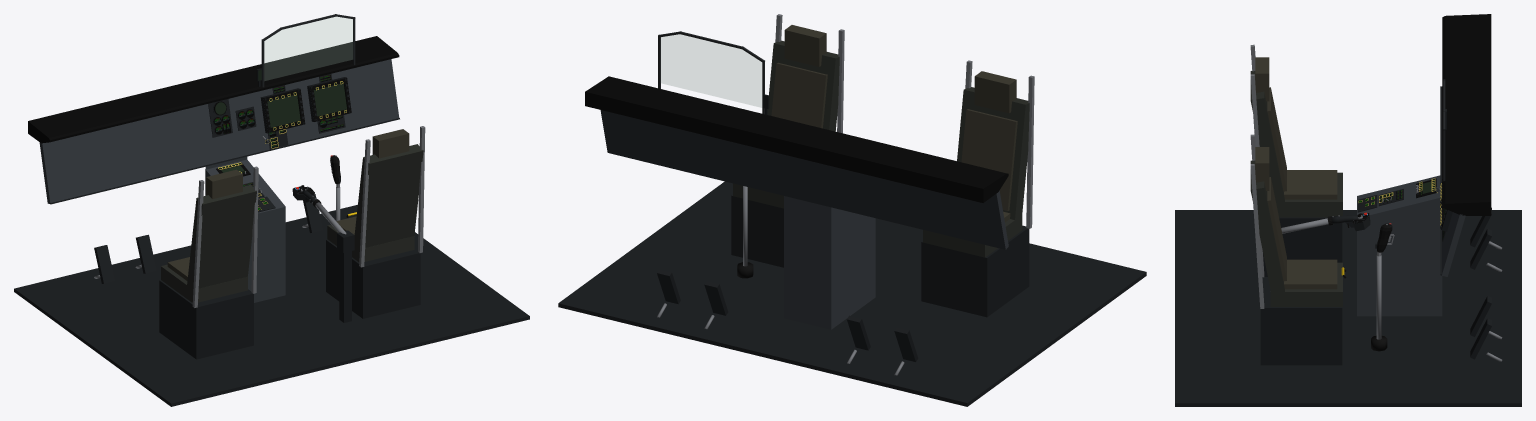
Rendered from cockpit_uh60.glb.
3 renders of one model, left to right at view 1: azimuth 30°, elevation 25°; view 2: azimuth 150°, elevation 25°; view 3: azimuth 270°, elevation 25°, orthographic. The views are drawn at different scales.
Visible parts, largest first — view 1: dark.103, panel_grey, black, dark.109, seat_95.001, seat_95, dark.108, hud_glass_69, panel_grey.001, seat_93.001, seat_93, dark.111 (+11 smaller); view 2: dark.103, panel_grey, black, panel_grey.001, dark.109, hud_glass_69, panel_grey.002, cushion_96.001, dark.108, cushion_96, seat_95.001, seat_95 (+8 smaller); view 3: dark.103, black, panel_grey.001, dark.108, dark.109, seat_95, cushion_94, cushion_94.001, seat_93, seat_93.001, seat_95.001, panel_grey (+11 smaller).
Boxes of the visible parts, x1,y1,x2,y2 form: dark.103: [14, 204, 529, 406]; panel_grey: [39, 59, 399, 203]; black: [28, 36, 399, 143]; dark.109: [159, 280, 253, 359]; seat_95.001: [187, 184, 256, 292]; seat_95: [354, 144, 423, 250]; dark.108: [326, 239, 420, 318]; hud_glass_69: [264, 17, 352, 80]; panel_grey.001: [205, 159, 285, 302]; seat_93.001: [161, 264, 247, 302]; seat_93: [327, 224, 414, 261]; dark.111: [339, 250, 351, 322]; dark.103: [558, 181, 1146, 406]; panel_grey: [600, 110, 1008, 249]; black: [585, 76, 1008, 202]; panel_grey.001: [784, 196, 875, 329]; dark.109: [921, 225, 1029, 317]; hud_glass_69: [661, 34, 761, 107]; panel_grey.002: [784, 197, 831, 329]; cushion_96.001: [961, 109, 1017, 210]; dark.108: [731, 195, 783, 267]; cushion_96: [771, 62, 827, 128]; seat_95.001: [957, 87, 1029, 220]; seat_95: [767, 40, 839, 131]; dark.103: [1175, 210, 1521, 406]; black: [1442, 14, 1491, 215]; panel_grey.001: [1357, 175, 1442, 316]; dark.108: [1260, 277, 1342, 365]; dark.109: [1279, 217, 1342, 262]; seat_95: [1250, 160, 1284, 293]; cushion_94: [1284, 259, 1337, 289]; cushion_94.001: [1284, 170, 1337, 199]; seat_93: [1270, 262, 1342, 306]; seat_93.001: [1276, 172, 1342, 217]; seat_95.001: [1250, 71, 1284, 201]; panel_grey: [1442, 86, 1465, 276].
Size of the model in its own units: 2.24 by 1.39 by 1.7.
Materials: 27 (6 with a texture image).
